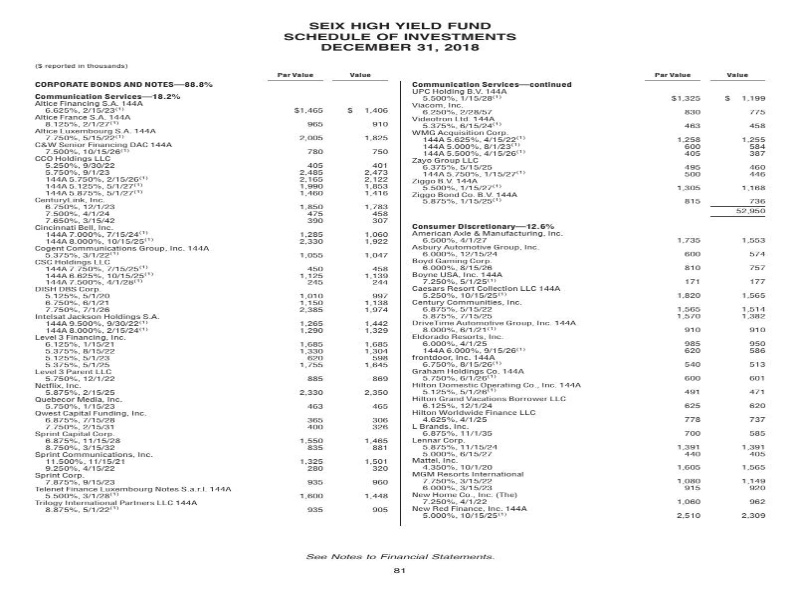table: (391, 66, 790, 536), (20, 58, 408, 538)
